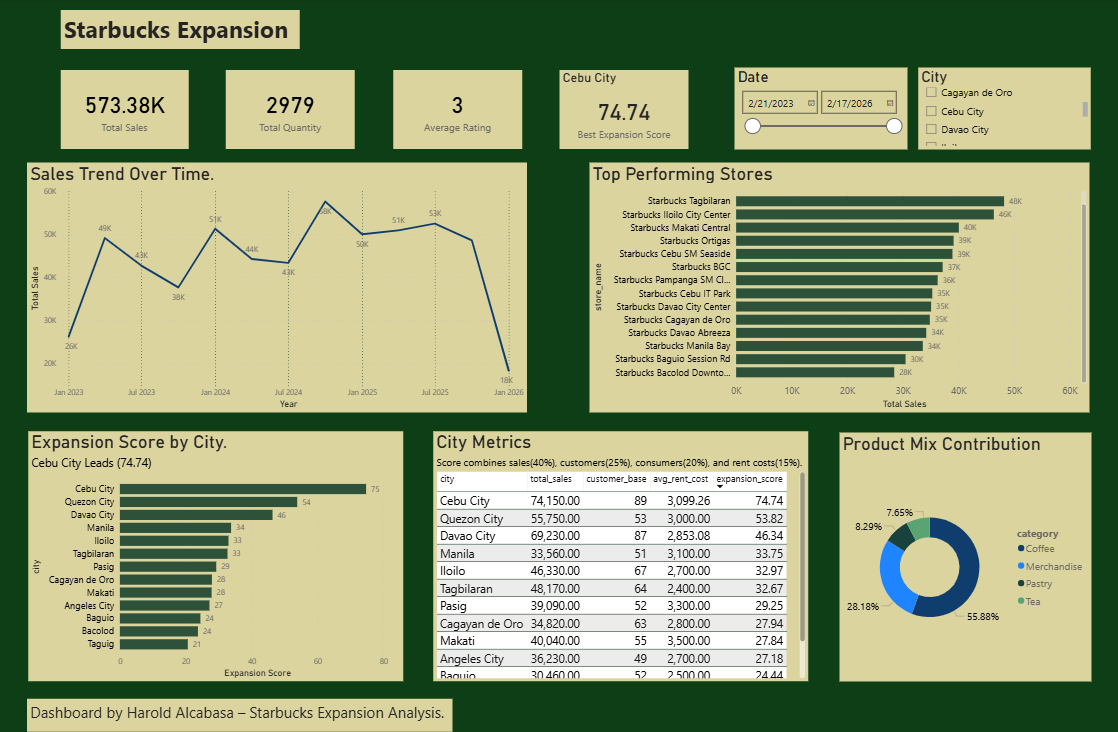

Layout of this report page (visuals, bound fields, positions):
{"tool":"powerbi","page":{"name":"Page 1","canvas":[1800,1200],"ordinal":0},"visuals":[{"type":"card","fields":{"Values":["sales.Total Sales"]},"box":[102.3,127.5,204.5,126.8],"z":0},{"type":"card","fields":{"Values":["sales.Total Quantity"]},"box":[366.7,127.5,206.5,126.8],"z":1000},{"type":"card","fields":{"Values":["sales.Average Rating"]},"box":[633.3,127.5,206.5,126.8],"z":2000},{"type":"lineChart","title":"Sales Trend Over Time.","fields":{"Category":["sales.sale_date.Variation.Date Hierarchy.Year","sales.sale_date.Variation.Date Hierarchy.Quarter"],"Y":["sales.Total Sales"]},"box":[47.7,276.5,800,400],"z":3000},{"type":"barChart","title":"Top Performing Stores","fields":{"Category":["stores.store_name"],"Y":["sales.Total Sales"]},"box":[947.7,276.5,800,400],"z":4000},{"type":"clusteredBarChart","title":"Expansion Score by City.","fields":{"Category":["CityExpansionScores.city"],"Y":["Max(CityExpansionScores.expansion_score)"]},"box":[49.1,707,600,400],"z":5000},{"type":"tableEx","title":"City Metrics","fields":{"Values":["CityExpansionScores.city","CityExpansionScores.total_sales","CityExpansionScores.customer_base","CityExpansionScores.avg_rent_cost","CityExpansionScores.expansion_score"]},"box":[698.4,707,600,400],"z":6000},{"type":"textbox","box":[102,32,382,62],"z":7000},{"type":"card","title":"Cebu City","fields":{"Values":["Max(CityExpansionScores.expansion_score)"]},"box":[899.8,127.5,206.5,126.8],"z":8000},{"type":"donutChart","title":"Product Mix Contribution","fields":{"Y":["sales.Total Sales"],"Category":["products.category"]},"box":[1347.7,707.6,402.9,398.8],"z":9000},{"type":"slicer","title":"Date","fields":{"Values":["sales.sale_date"]},"box":[1180,123.1,276.1,130.9],"z":10000},{"type":"slicer","title":"City","fields":{"Values":["CityExpansionScores.city"]},"box":[1474.4,123.1,276.1,130.9],"z":11000},{"type":"textbox","box":[47,1135,681,53.2],"z":12000}]}

Visuals, with their boxes in screenshot pixels (x1, y1, x2, y2), scaled from the page's 1800x1200 canvas onto the 1118x732 screenshot:
card - sales.Total Sales: {"x1": 64, "y1": 78, "x2": 191, "y2": 155}
card - sales.Total Quantity: {"x1": 228, "y1": 78, "x2": 356, "y2": 155}
card - sales.Average Rating: {"x1": 393, "y1": 78, "x2": 522, "y2": 155}
"Sales Trend Over Time." lineChart: {"x1": 30, "y1": 169, "x2": 527, "y2": 413}
"Top Performing Stores" barChart: {"x1": 589, "y1": 169, "x2": 1086, "y2": 413}
"Expansion Score by City." clusteredBarChart: {"x1": 30, "y1": 431, "x2": 403, "y2": 675}
"City Metrics" tableEx: {"x1": 434, "y1": 431, "x2": 806, "y2": 675}
textbox: {"x1": 63, "y1": 20, "x2": 301, "y2": 57}
"Cebu City" card: {"x1": 559, "y1": 78, "x2": 687, "y2": 155}
"Product Mix Contribution" donutChart: {"x1": 837, "y1": 432, "x2": 1087, "y2": 675}
"Date" slicer: {"x1": 733, "y1": 75, "x2": 904, "y2": 155}
"City" slicer: {"x1": 916, "y1": 75, "x2": 1087, "y2": 155}
textbox: {"x1": 29, "y1": 692, "x2": 452, "y2": 725}
